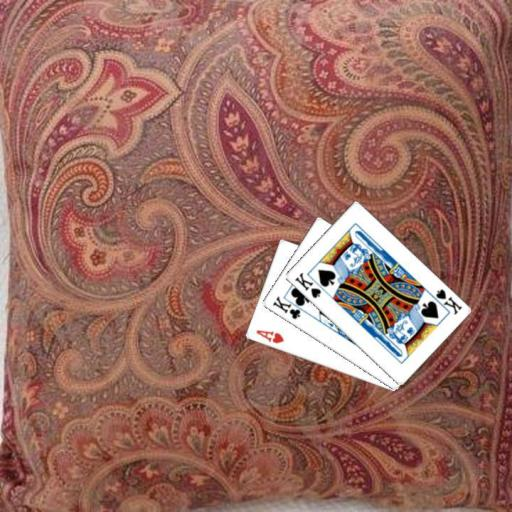AH: (253, 327, 285, 345)
KC: (269, 293, 308, 321)
KS: (427, 286, 463, 316), (292, 270, 322, 300)
